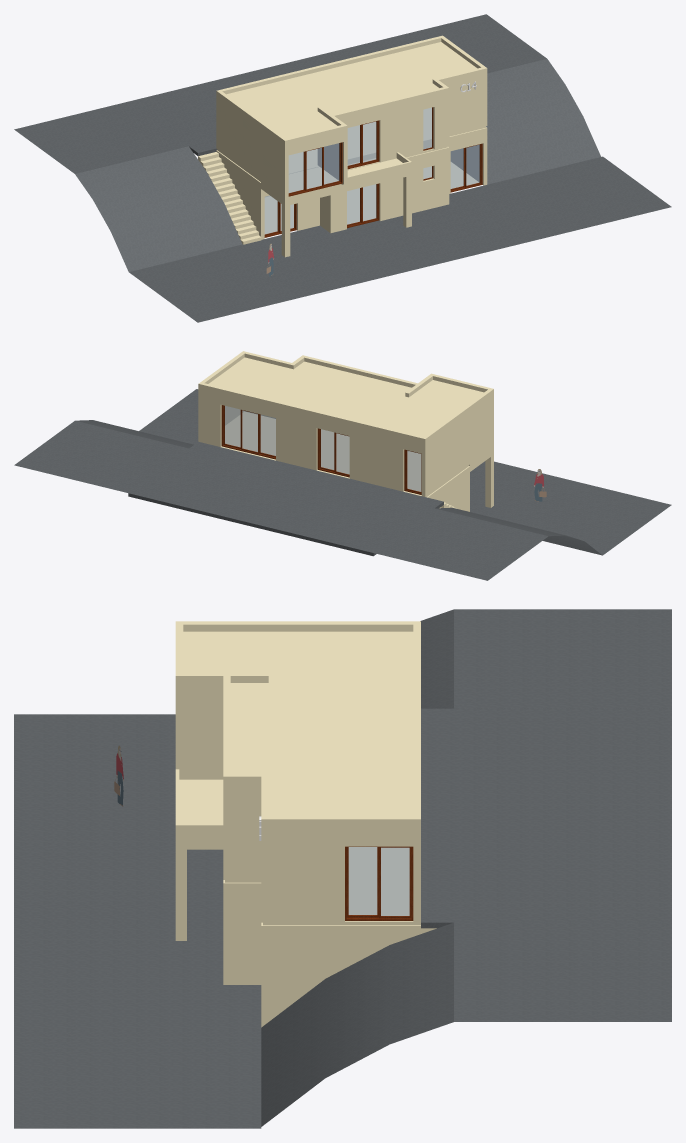
3 views of the same model, one above another, from view 1: azimuth 30°, elevation 25°; view 2: azimuth 150°, elevation 25°; view 3: azimuth 270°, elevation 25° (orthographic). The views are drawn at different scales.
Parts seen in each view (by area): view 1: 19827, 19807 (×2), 18941, 17029, 18691, 19815, 18744, Component#1 (×4), 19753, 24723, 26577, 26546 (+1 smaller); view 2: 17029, 18744, 19827, 18691, 19815, 19753, 25199, 18941, 19807 (×2), Component#1, 17334, 26729; view 3: 19827, 18744, 18691, 17029, 19807 (×2), 19753, 19815, 18941, Component#1, 26577, 26678.
Part boxes in pixels (bbox=[...]): 19827: bbox=[129, 156, 671, 322]; 19807 (×2): bbox=[75, 59, 600, 271]; 18941: bbox=[216, 80, 487, 239]; 17029: bbox=[216, 35, 487, 206]; 18691: bbox=[226, 42, 477, 138]; 19815: bbox=[14, 101, 188, 173]; 18744: bbox=[128, 42, 382, 156]; Component#1 (×4): bbox=[264, 120, 482, 237]; 19753: bbox=[373, 14, 546, 73]; 24723: bbox=[288, 142, 342, 196]; 26577: bbox=[347, 152, 411, 190]; 26546: bbox=[288, 167, 343, 205]; 17029: bbox=[198, 351, 493, 496]; 18744: bbox=[128, 441, 443, 556]; 19827: bbox=[139, 389, 671, 555]; 18691: bbox=[208, 357, 483, 436]; 19815: bbox=[374, 508, 548, 580]; 19753: bbox=[14, 420, 188, 492]; 25199: bbox=[221, 405, 275, 459]; 18941: bbox=[223, 355, 469, 511]; 19807 (×2): bbox=[76, 420, 602, 555]; Component#1: bbox=[317, 428, 349, 477]; 17334: bbox=[404, 449, 421, 494]; 26729: bbox=[485, 455, 493, 507]; 19827: bbox=[14, 714, 261, 1128]; 18744: bbox=[421, 708, 671, 928]; 18691: bbox=[183, 631, 413, 815]; 17029: bbox=[175, 621, 420, 922]; 19807 (×2): bbox=[261, 609, 453, 1126]; 19753: bbox=[454, 922, 671, 1021]; 19815: bbox=[454, 609, 671, 708]; 18941: bbox=[223, 673, 436, 1027]; Component#1: bbox=[345, 846, 413, 920]; 26577: bbox=[175, 769, 223, 849]; 26678: bbox=[175, 849, 186, 940].
Size of the model in its own units: 25.77 by 6.23 by 17.3.
514 materials, 148 textured.
